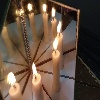fire: (32, 62, 38, 78)
